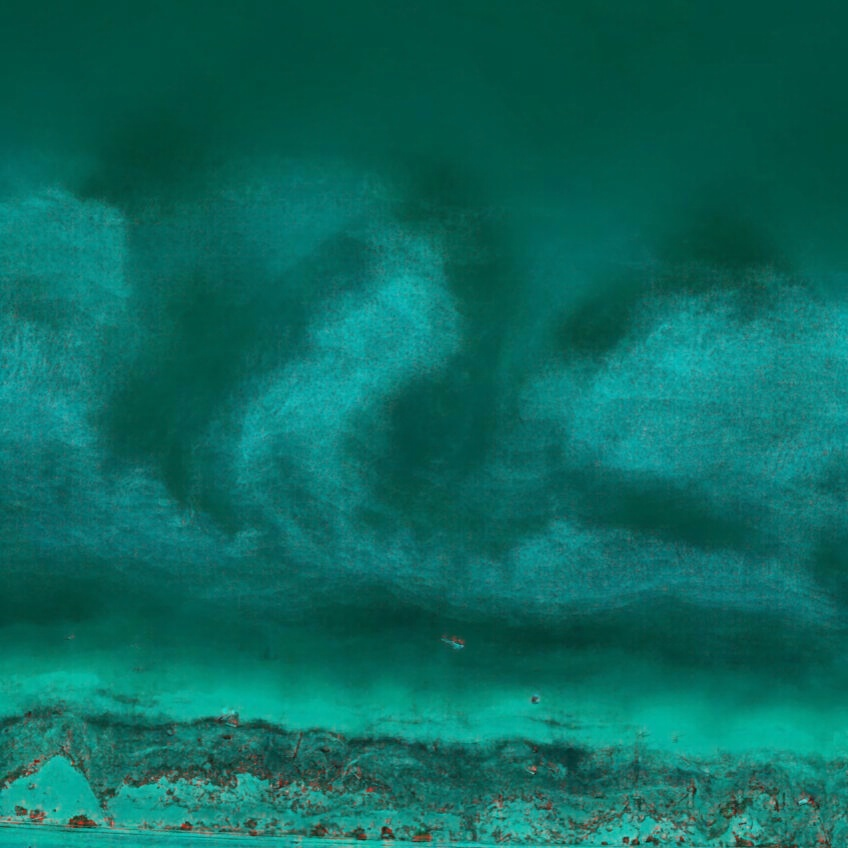rip_current: (85, 147, 307, 528)
